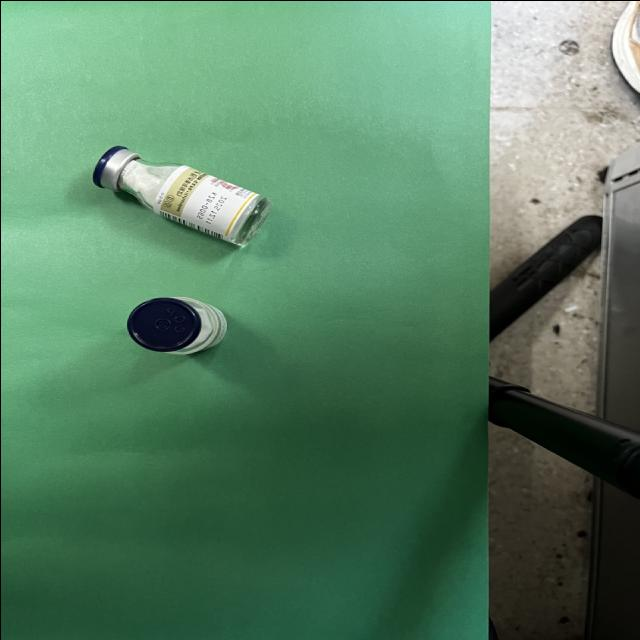Vials: (92, 145, 271, 246), (125, 296, 227, 355)
